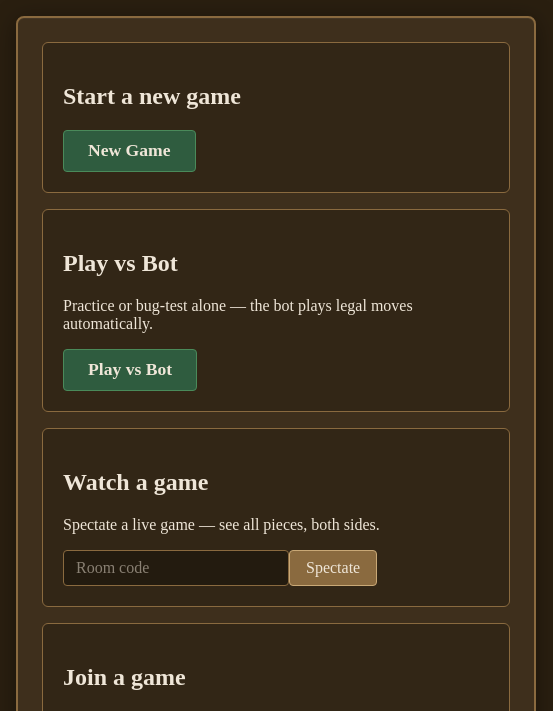
HomePage play vs bot › still clears the session when abandon-game fails
The image size is (553, 711).
Click the button "Play vs Bot" at {"x": 130, "y": 370}, box [63,349,197,391]
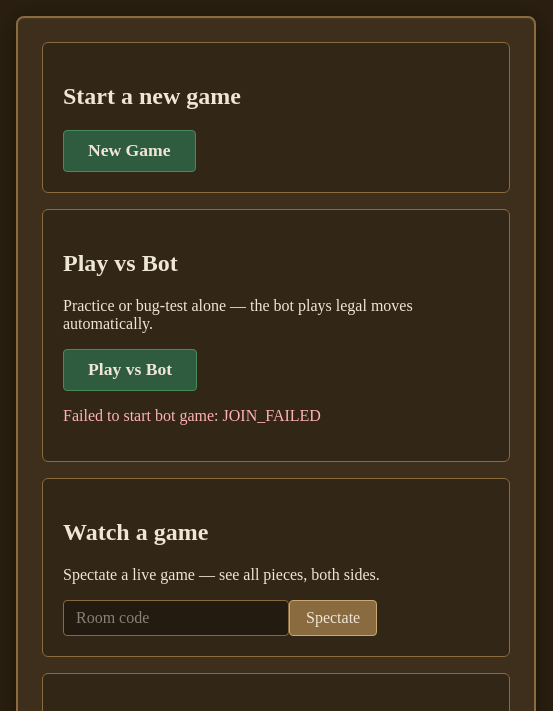
Check: the text "Failed to start bot game: JOIN_FAILED" is shown, box [63,407,321,424]
